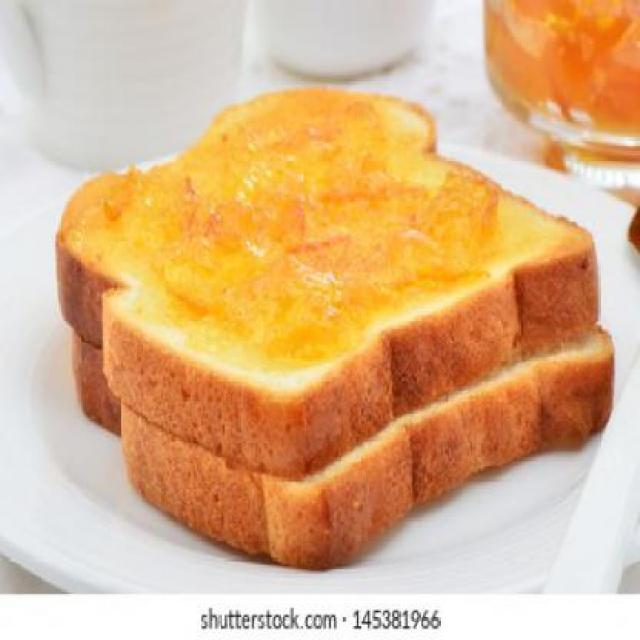Spread: (105, 123, 482, 352)
